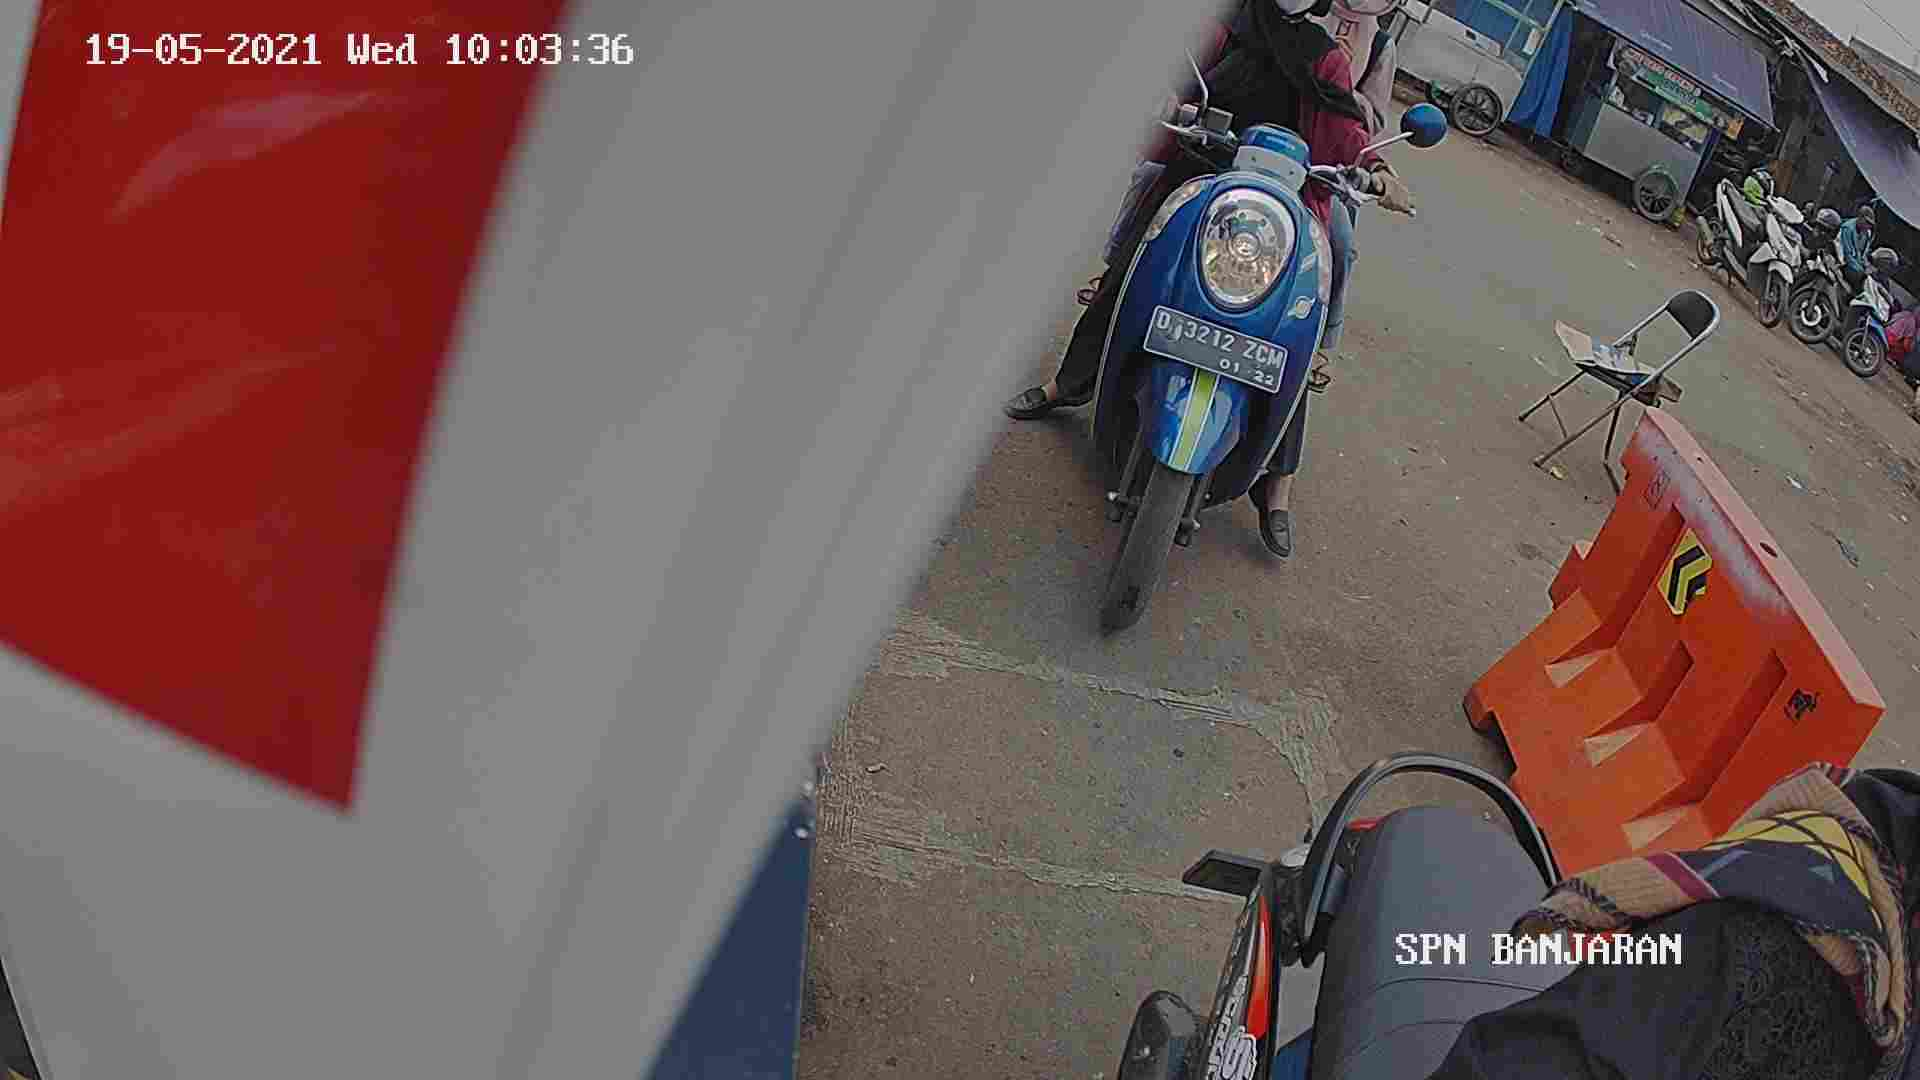motor: (1088, 103, 1383, 646)
